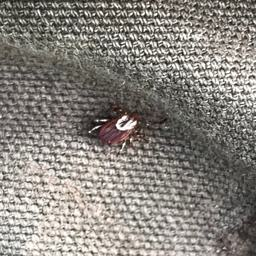Dermacentor variabilis: (87, 103, 168, 151)
